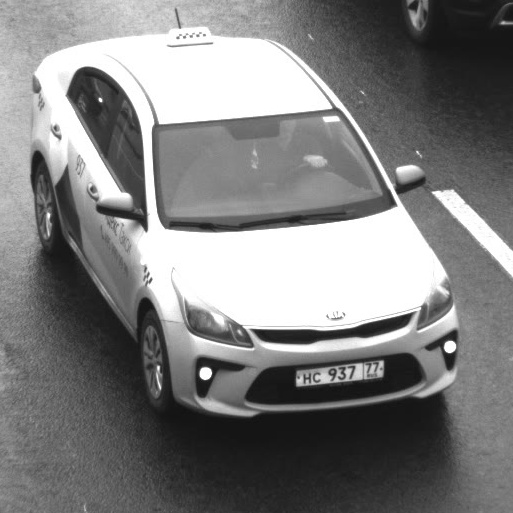plate: (282, 346, 394, 396)
